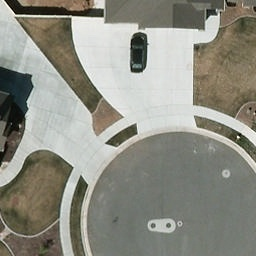car: (130, 35, 146, 74)
